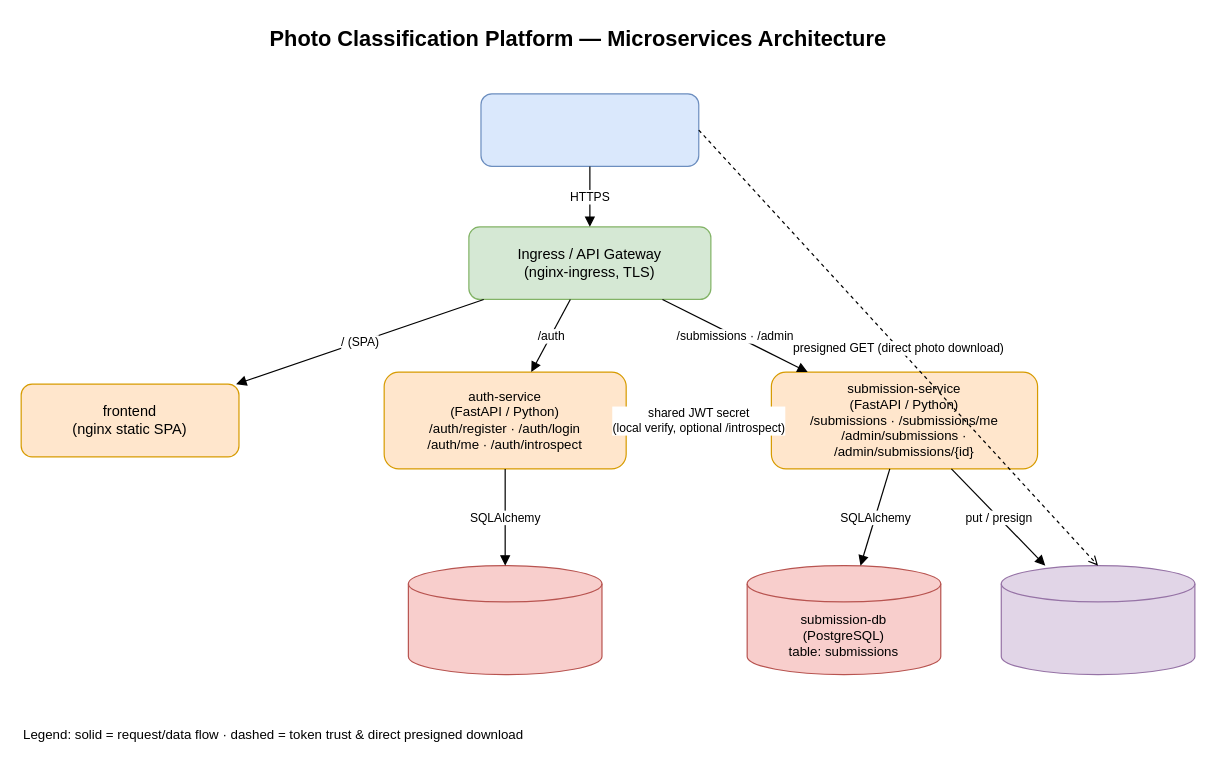
This 1216x767 diagram has some shape labels left out. Here are the shapes that lost their labels. From the top down, the centre of each, then its label:
the point at 589,129: User Browser (React SPA + Tailwind)
the point at 504,619: auth-db (PostgreSQL) table: users
the point at 1097,619: MinIO / S3 (object storage) bucket: photos
